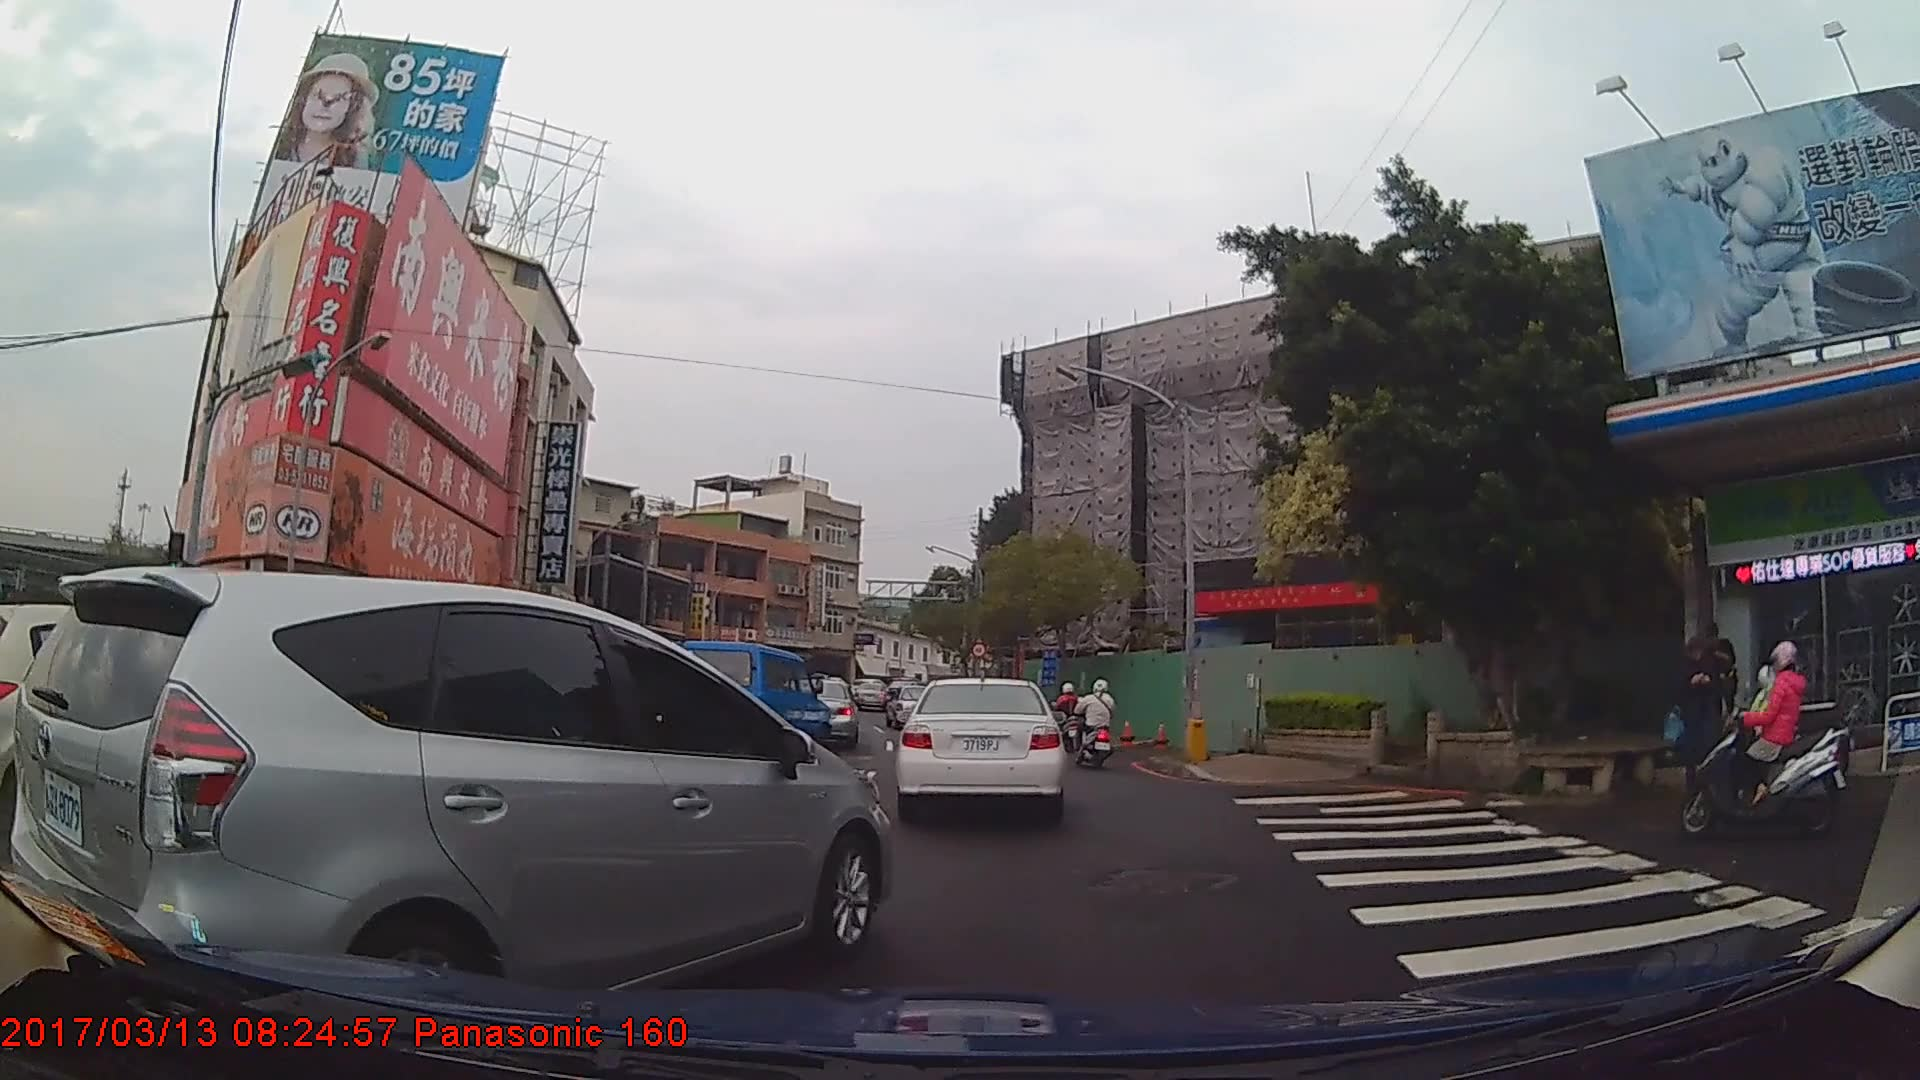pedestrian: (1685, 639, 1737, 804), (1696, 621, 1742, 750)
rider: (1678, 637, 1851, 838), (1077, 679, 1116, 769), (1054, 681, 1088, 755)
vehicle: (7, 566, 896, 1042), (893, 675, 1068, 826), (783, 679, 860, 751)
